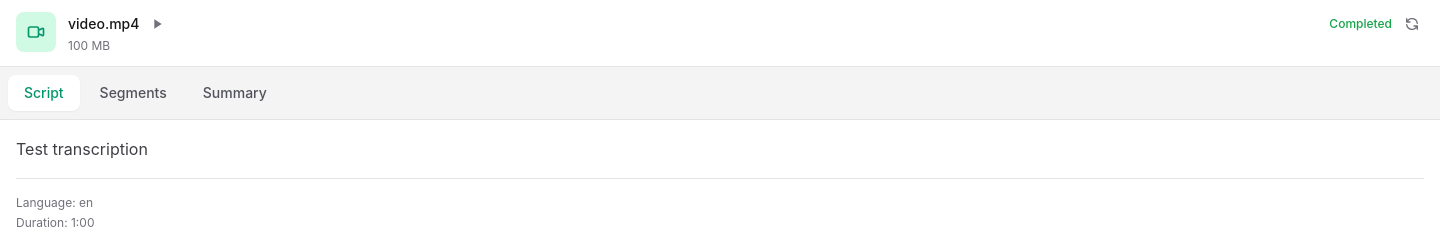
it: Inspector › Summary tab › shows loading state when summaryStatus is summarizing
Note: Click on Summary tab
Click the tab "Summary": point(235, 93) top-left (187, 75), bottom-right (283, 111)
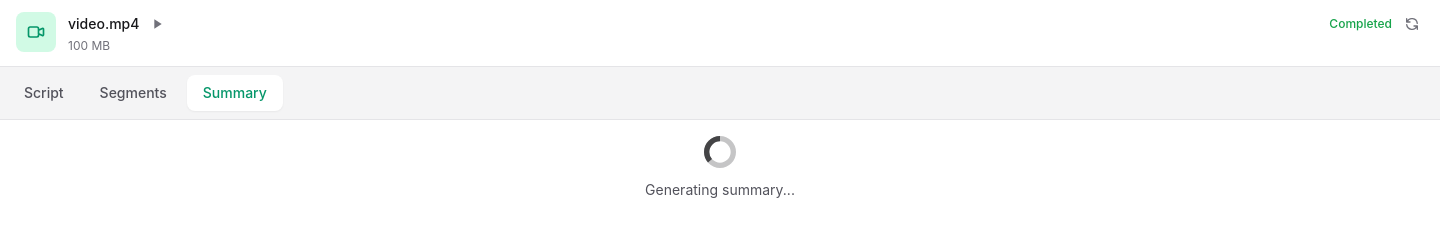
Expected: the text "Generating summary..." is shown, top-left (645, 180), bottom-right (795, 200)
